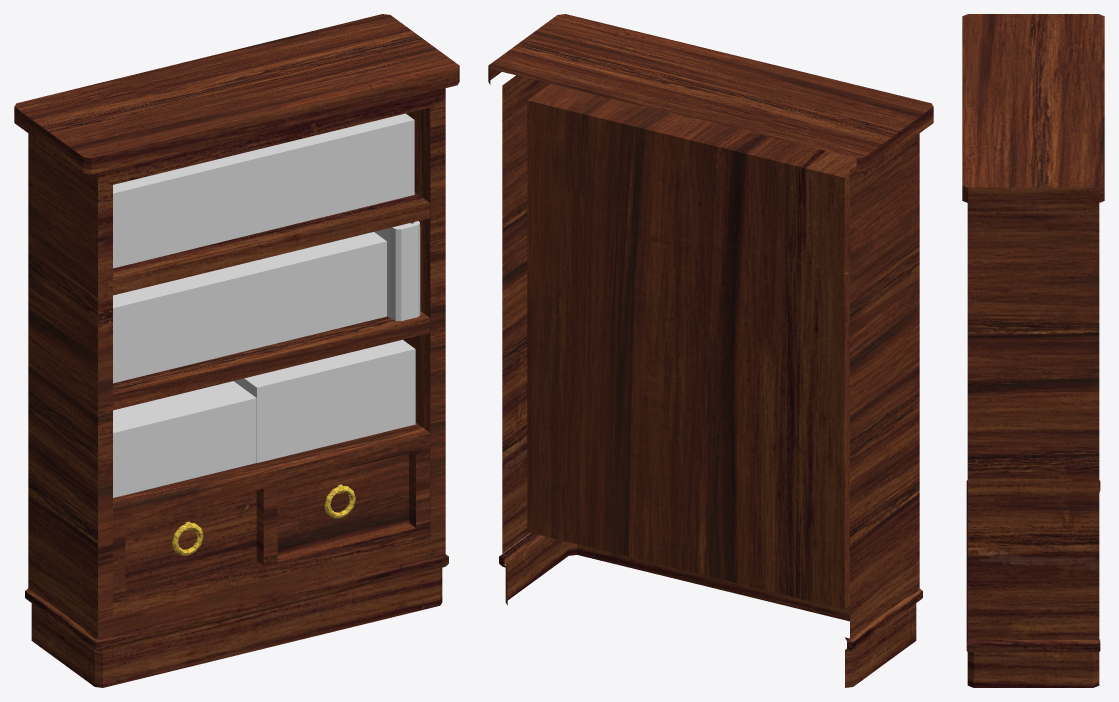
File: Estanteria_2.fbx
The picture shows the model from 3 angles, left to right: view 1: azimuth 30°, elevation 25°; view 2: azimuth 150°, elevation 25°; view 3: azimuth 270°, elevation 25°; orthographic projection. The views are drawn at different scales.
Visible parts, largest first — view 1: Plane.369; view 2: Plane.369; view 3: Plane.369.
Boxes of the visible parts, x1=… form: Plane.369: x1=14, y1=14, x2=459, y2=687; Plane.369: x1=488, y1=14, x2=933, y2=687; Plane.369: x1=962, y1=14, x2=1104, y2=687.
Bounding box in the file's own units: 168 × 229 × 58.21.
